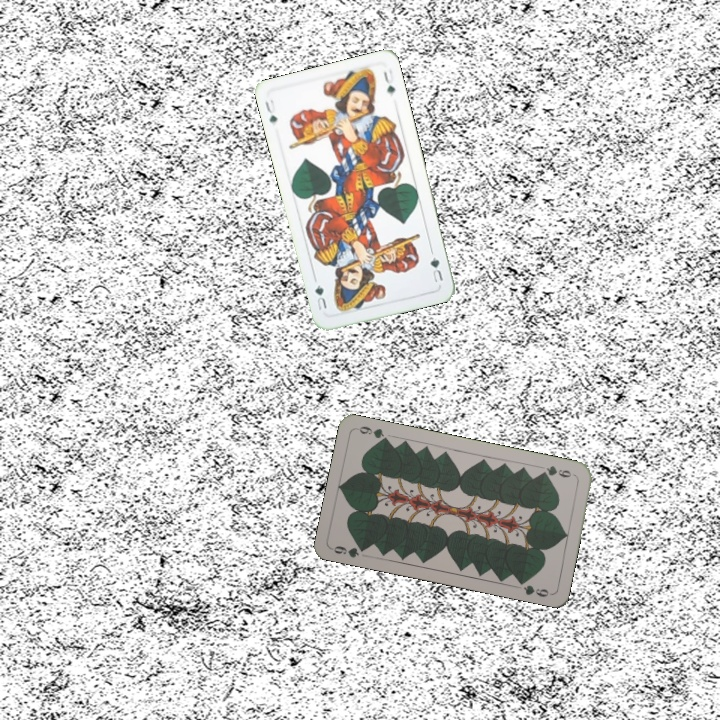G9: (328, 542, 370, 560), (537, 462, 578, 480)
GU: (426, 253, 446, 285), (261, 95, 280, 126)
